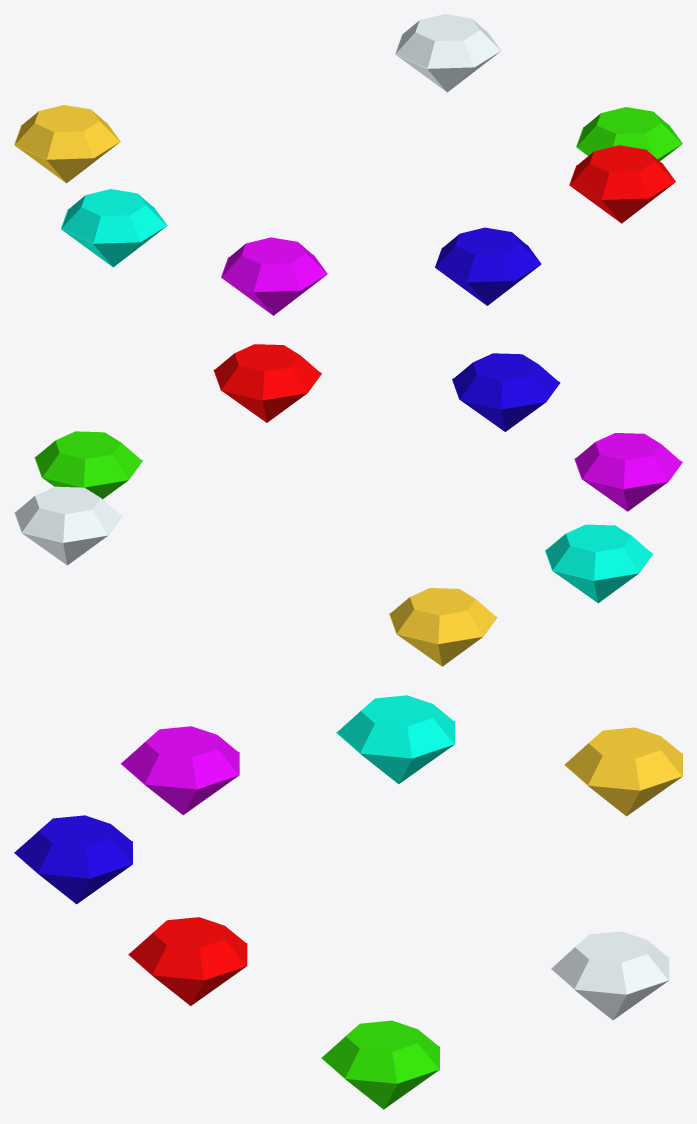
File: The_Chaos_Emeralds2.fbx
3 views of the same model, one above another, from view 1: azimuth 30°, elevation 25°; view 2: azimuth 150°, elevation 25°; view 3: azimuth 270°, elevation 25° (orthographic). The views are drawn at different scales.
Visible parts, largest first — view 1: Cone.005, Cone.006, Cone, Cone.002, Cone.001, Cone.004, Cone.003; view 2: Cone.006, Cone.002, Cone.001, Cone.005, Cone, Cone.004, Cone.003; view 3: Cone.004, Cone, Cone.006, Cone.005, Cone.001, Cone.003, Cone.002.
Part boxes in pixels (box(x1,y1,x2,y2)): Cone.005: box(221, 237, 327, 315); Cone.006: box(569, 145, 675, 223); Cone: box(395, 14, 501, 92); Cone.002: box(435, 227, 541, 305); Cone.001: box(14, 105, 120, 183); Cone.004: box(61, 189, 167, 267); Cone.003: box(576, 107, 682, 160); Cone.006: box(213, 344, 321, 422); Cone.002: box(452, 353, 560, 431); Cone.001: box(389, 588, 497, 666); Cone.005: box(574, 433, 682, 511); Cone: box(14, 486, 122, 565); Cone.004: box(545, 524, 653, 603); Cone.003: box(34, 431, 142, 499); Cone.004: box(336, 695, 455, 784); Cone: box(550, 931, 669, 1020); Cone.006: box(128, 917, 247, 1005); Cone.005: box(120, 726, 239, 814); Cone.001: box(564, 727, 682, 816); Cone.003: box(321, 1020, 439, 1109); Cone.002: box(14, 815, 132, 904).
Bounding box in the file's own units: 1263 × 222 × 1068.
